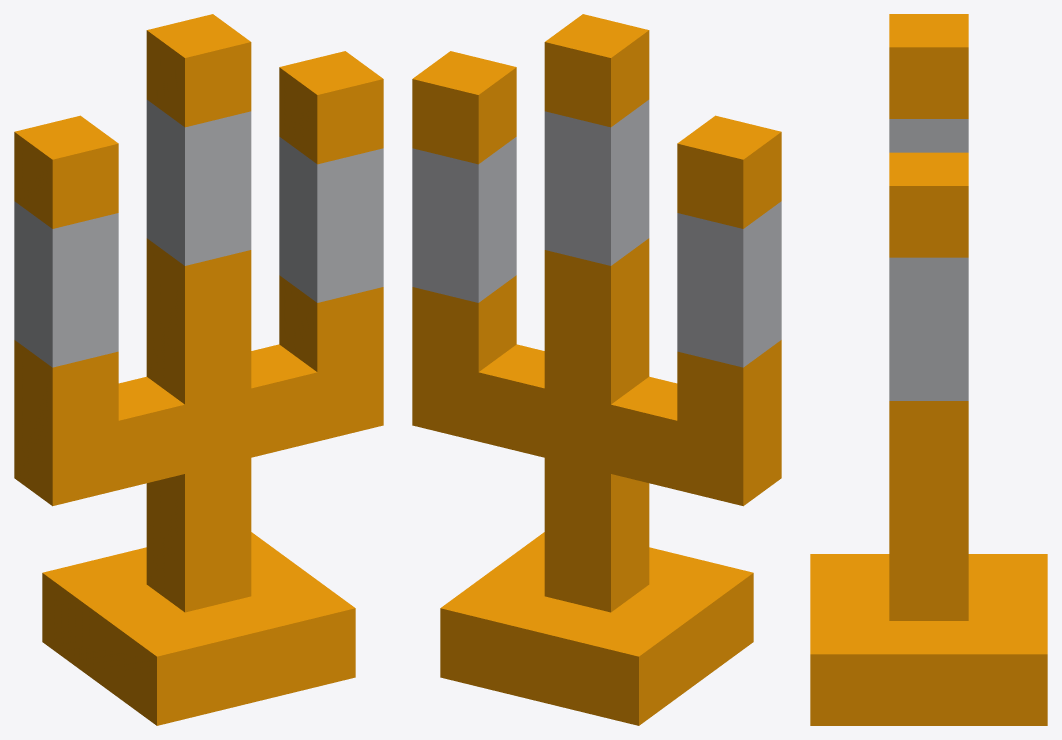
File: small_candelabrum_c.obj
3 renders of one model, left to right at view 1: azimuth 30°, elevation 25°; view 2: azimuth 150°, elevation 25°; view 3: azimuth 270°, elevation 25°, orthographic. The views are drawn at different scales.
Bounding box in the file's own units: 0.5 × 0.9 × 0.3.
Materials: 1 (1 with a texture image).
